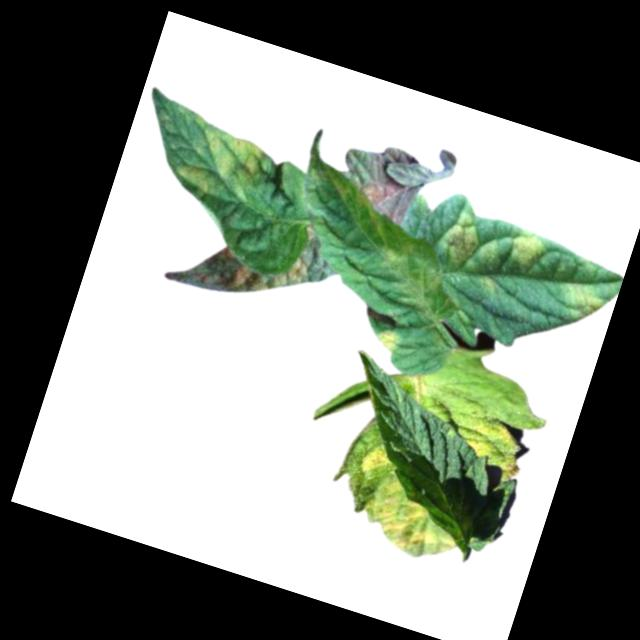Leaf_Mold: (159, 195, 344, 328), (338, 440, 479, 570), (168, 113, 276, 212), (328, 132, 433, 231), (460, 415, 535, 483), (435, 207, 495, 279), (502, 223, 554, 276), (562, 281, 611, 327), (374, 323, 405, 358)
